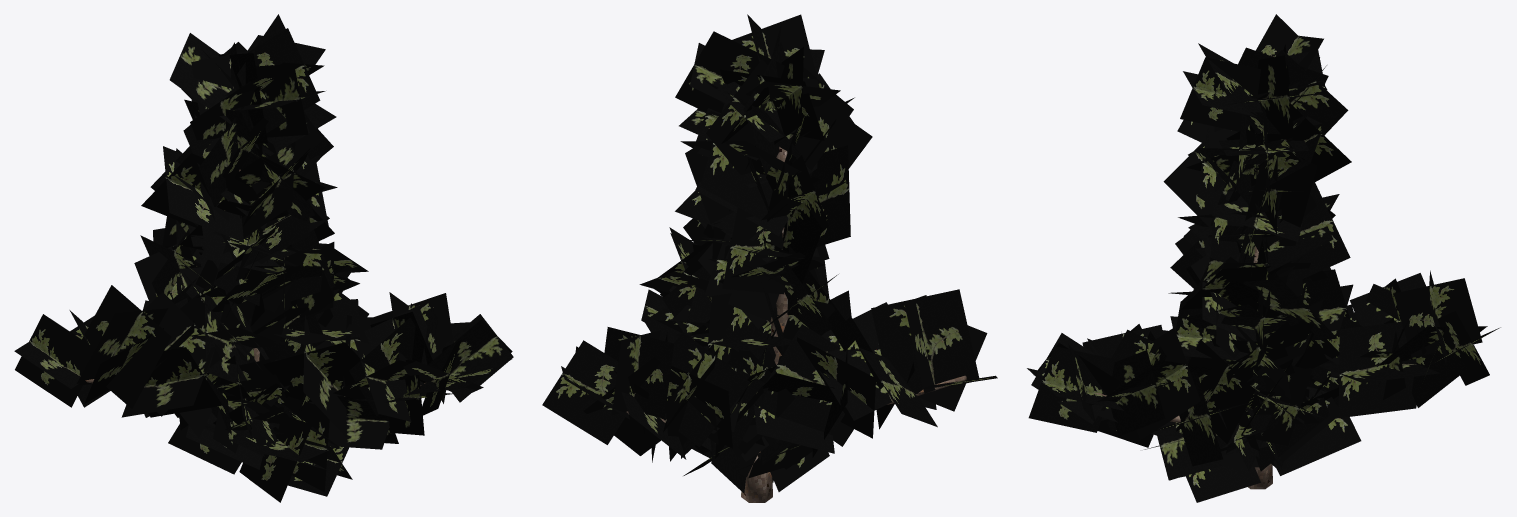
The model's file is fol2.glb.
The picture shows the model from 3 angles, left to right: view 1: azimuth 30°, elevation 25°; view 2: azimuth 150°, elevation 25°; view 3: azimuth 270°, elevation 25°; orthographic projection. The views are drawn at different scales.
Visible parts, largest first — view 1: Mangrove_TreeLOD0; view 2: Mangrove_TreeLOD0; view 3: Mangrove_TreeLOD0.
Part boxes in pixels (box(x1,y1,x2,y2)): Mangrove_TreeLOD0: box(14, 14, 513, 502); Mangrove_TreeLOD0: box(542, 14, 997, 502); Mangrove_TreeLOD0: box(1027, 14, 1500, 502).
Size of the model in its own units: 9.05 by 9.79 by 9.48.
Materials: 2 (2 with a texture image).
